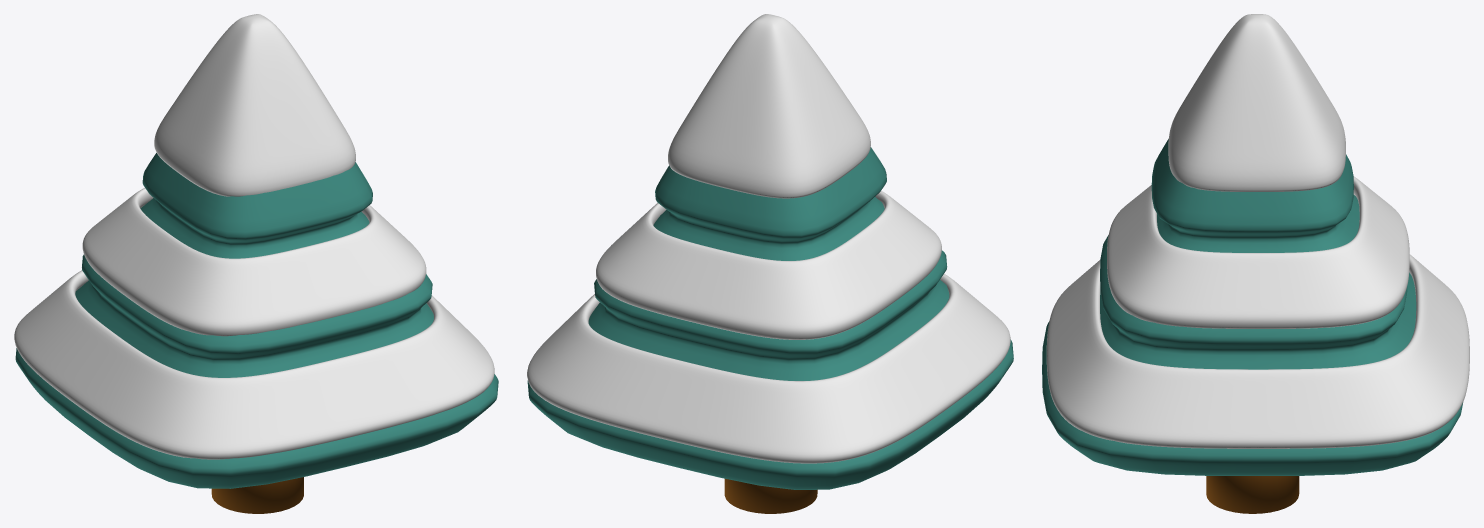
Rendered from pino.glb.
The picture shows the model from 3 angles, left to right: view 1: azimuth 30°, elevation 25°; view 2: azimuth 150°, elevation 25°; view 3: azimuth 270°, elevation 25°; orthographic projection.
Parts seen in each view (by area): view 1: Cylinder; view 2: Cylinder; view 3: Cylinder.
Part boxes in pixels (bbox=[...]): Cylinder: bbox=[14, 14, 498, 513]; Cylinder: bbox=[527, 14, 1013, 513]; Cylinder: bbox=[1042, 14, 1469, 513].
Bounding box in the file's own units: 3.17 × 3.94 × 3.2.
